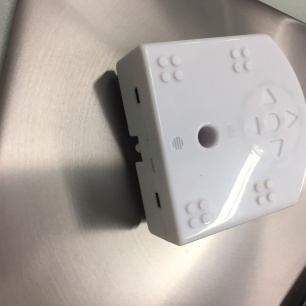thymio: (110, 31, 306, 258)
